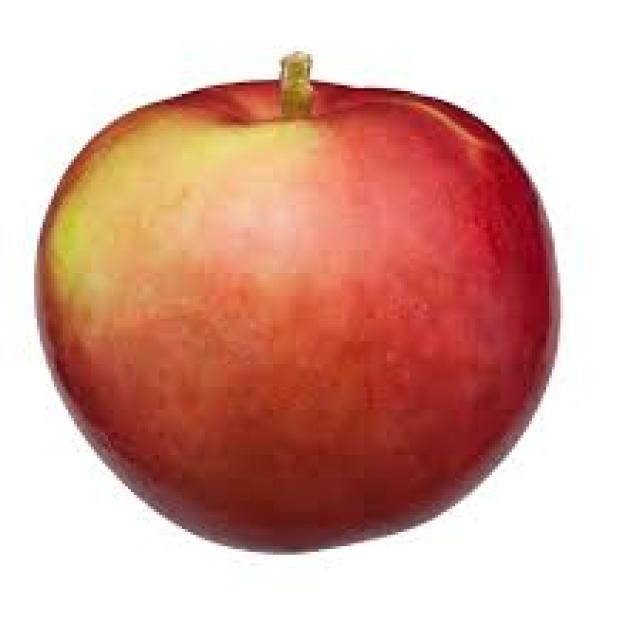Apple: (34, 55, 558, 553)
